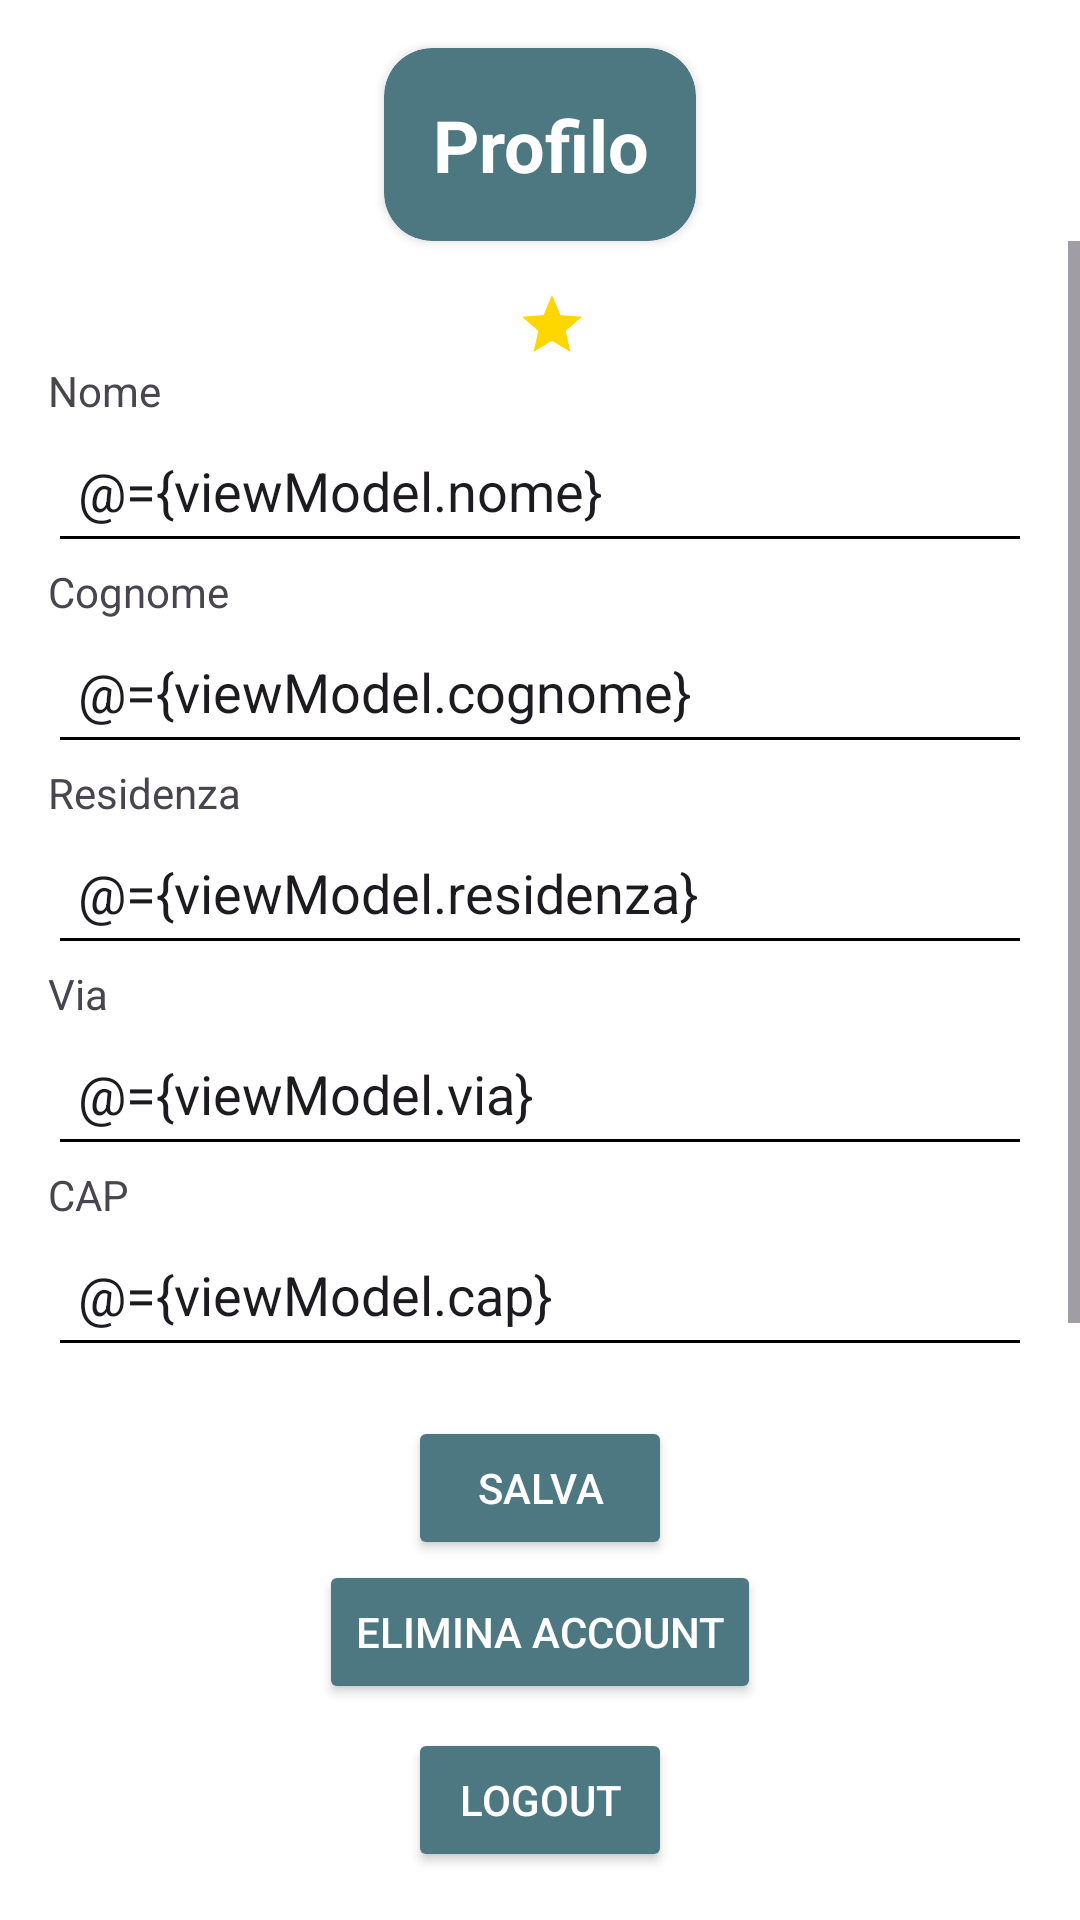

Icons on this 1080×1920 Android screen, each with its box as detection(x1, y1, x2, y2):
stella: detection(522, 295, 582, 352)
